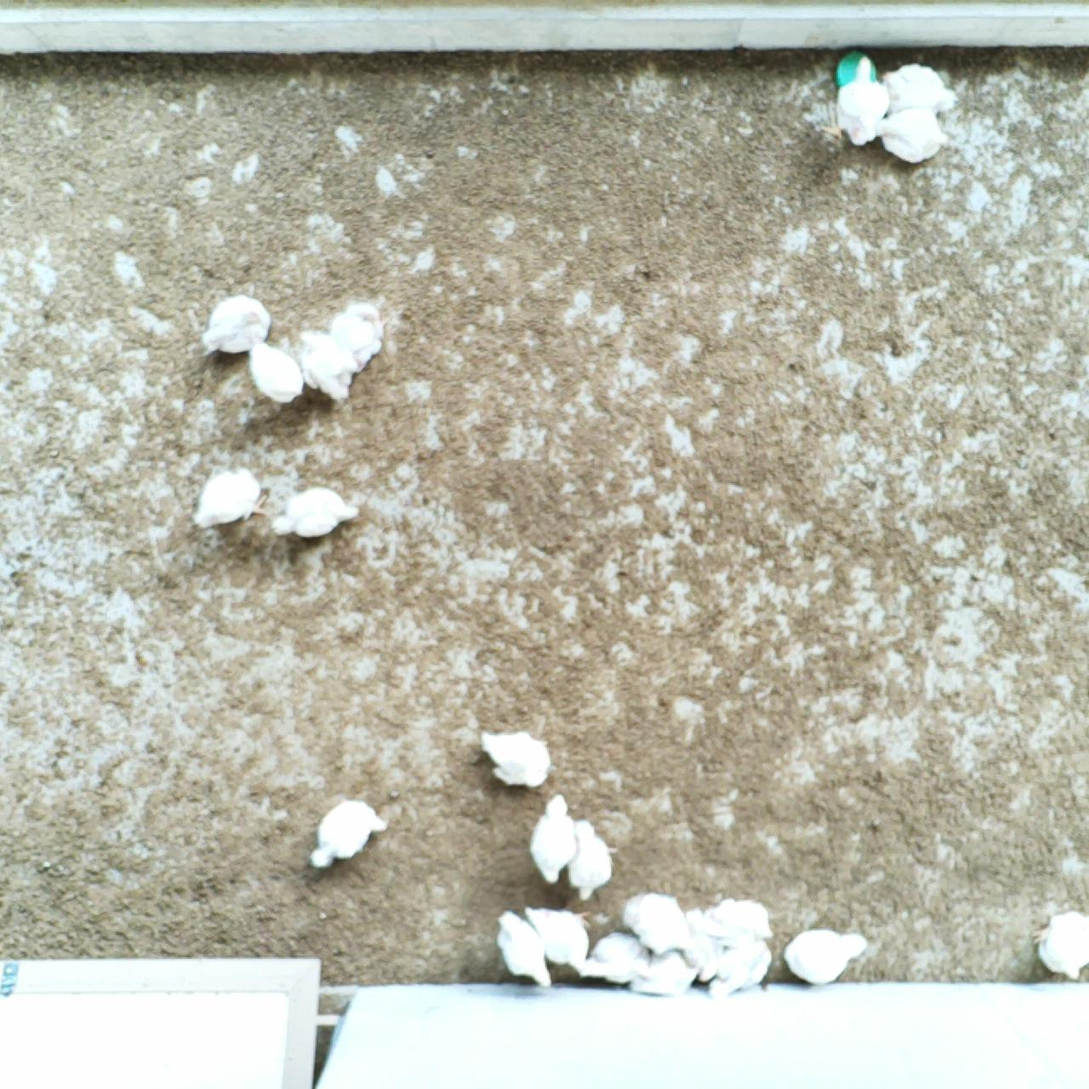chicken: (819, 52, 890, 148), (306, 793, 391, 871), (190, 462, 272, 535), (781, 924, 870, 991), (491, 908, 555, 996), (272, 482, 360, 545), (471, 723, 553, 790), (199, 291, 273, 363), (296, 326, 362, 406), (523, 901, 595, 974), (1025, 902, 1089, 984), (527, 791, 581, 887), (622, 887, 698, 954), (871, 101, 953, 162), (575, 927, 658, 986), (564, 814, 618, 903), (879, 60, 961, 118), (329, 297, 393, 369), (708, 937, 774, 1005), (702, 892, 778, 951), (248, 337, 307, 410), (626, 947, 703, 1002), (679, 902, 728, 986)
